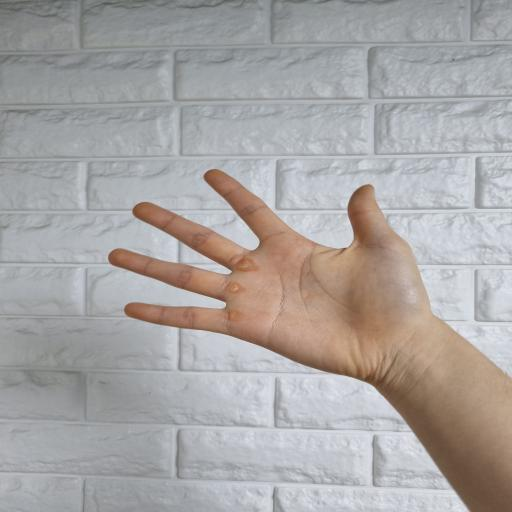Paper: (108, 169, 444, 387)
